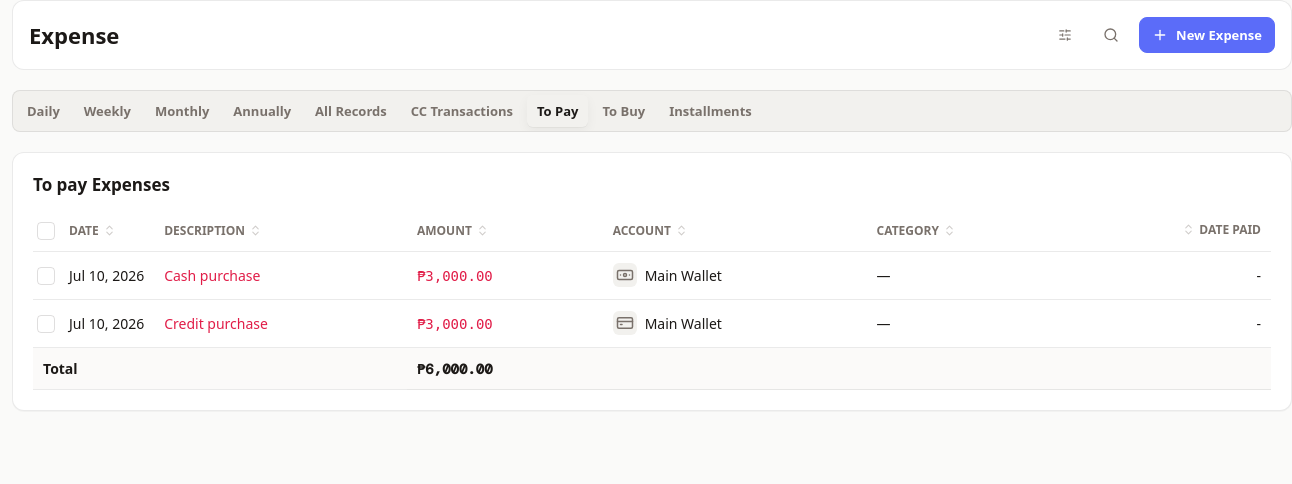
Scenario: To Pay filters All Credit Accounts without sending a synthetic account ID
Expected: the text "Cash purchase" is shown, [164,266,260,285]
Click the button named "Filters".
click(1065, 35)  # box [1047,19,1083,51]
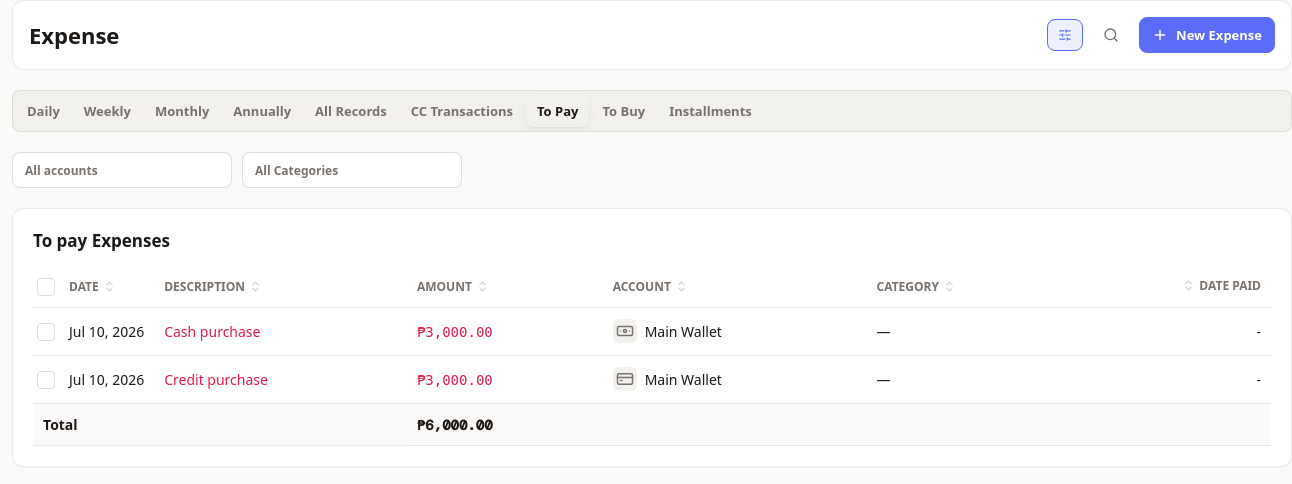
Click the button "All accounts".
click(122, 170)  # box [12,152,232,188]
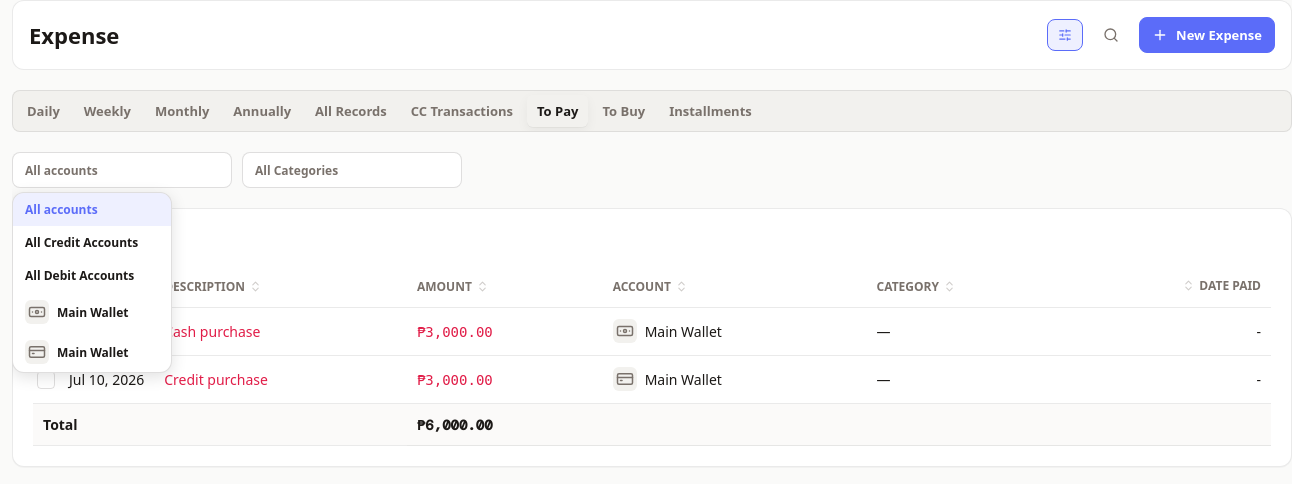
Click the button "All Credit Accounts".
click(92, 242)  # box [13,226,171,259]
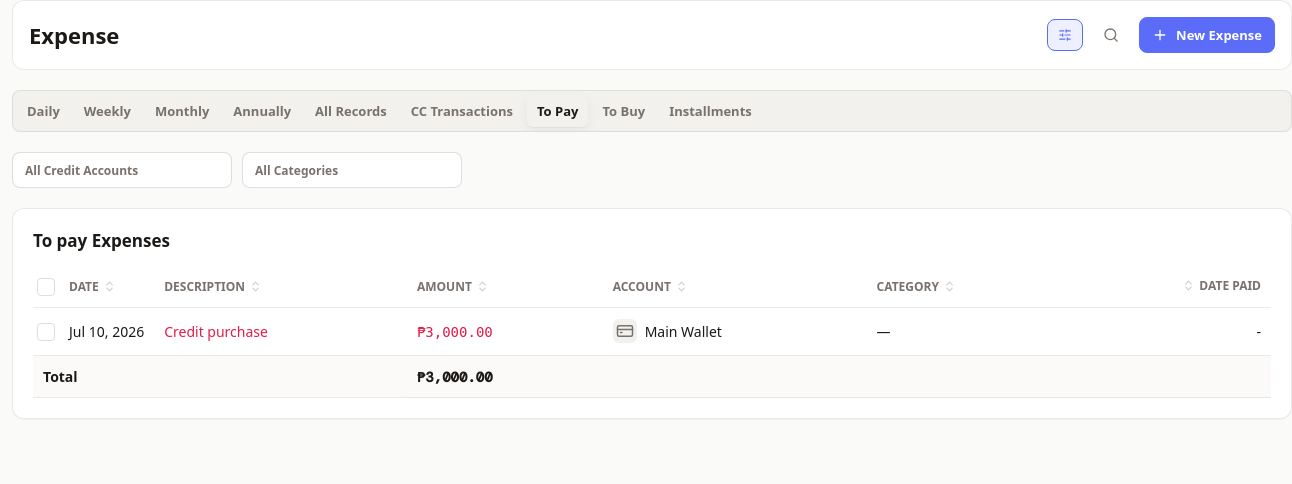
Expected: the text "Credit purchase" is shown, [164,322,268,341]
Expected: the text "Cash purchase" is gone
